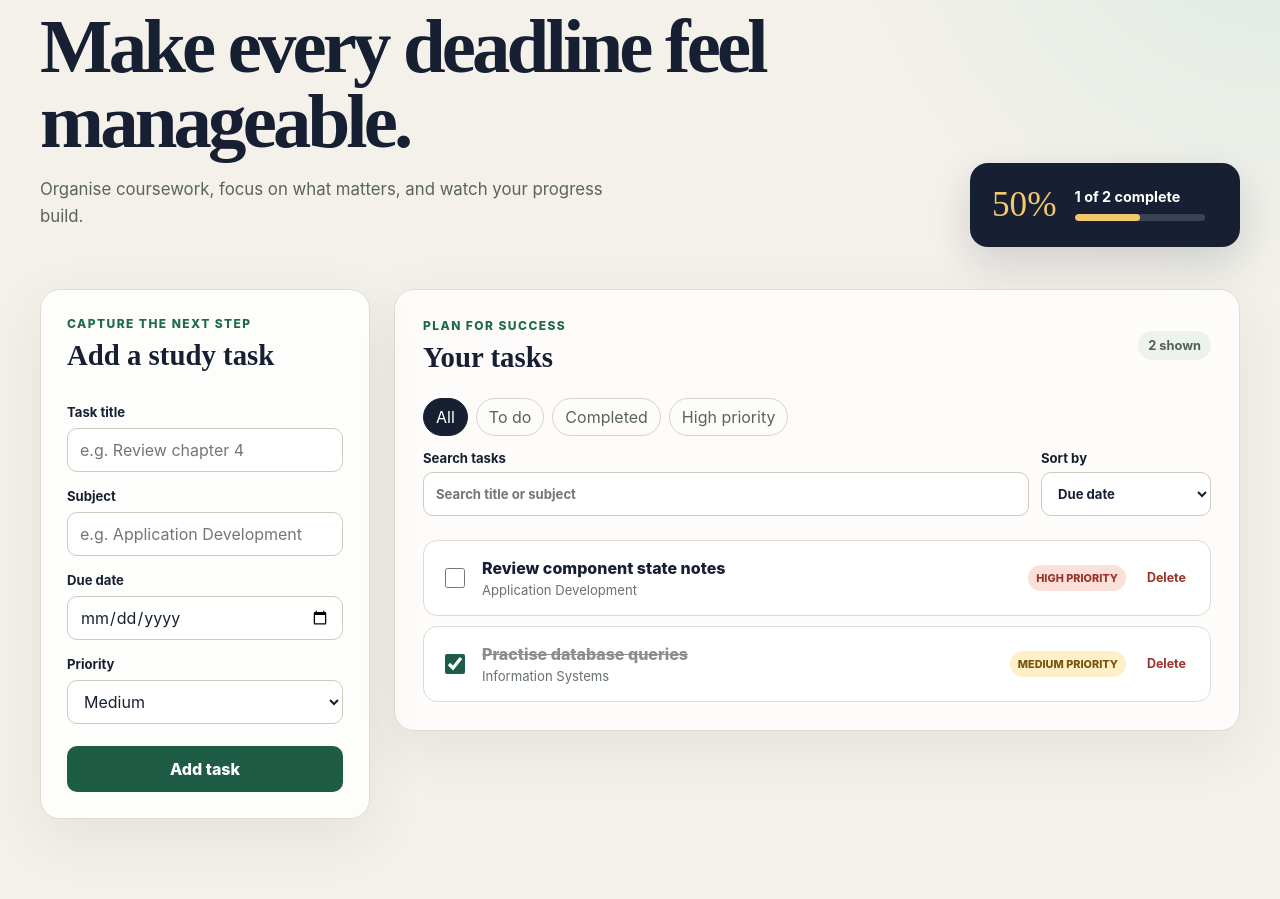
StudyFlow › shows an accessible validation message
(page scrolled)
Click the button "Add task" at (205, 769), box [67,746,343,792]
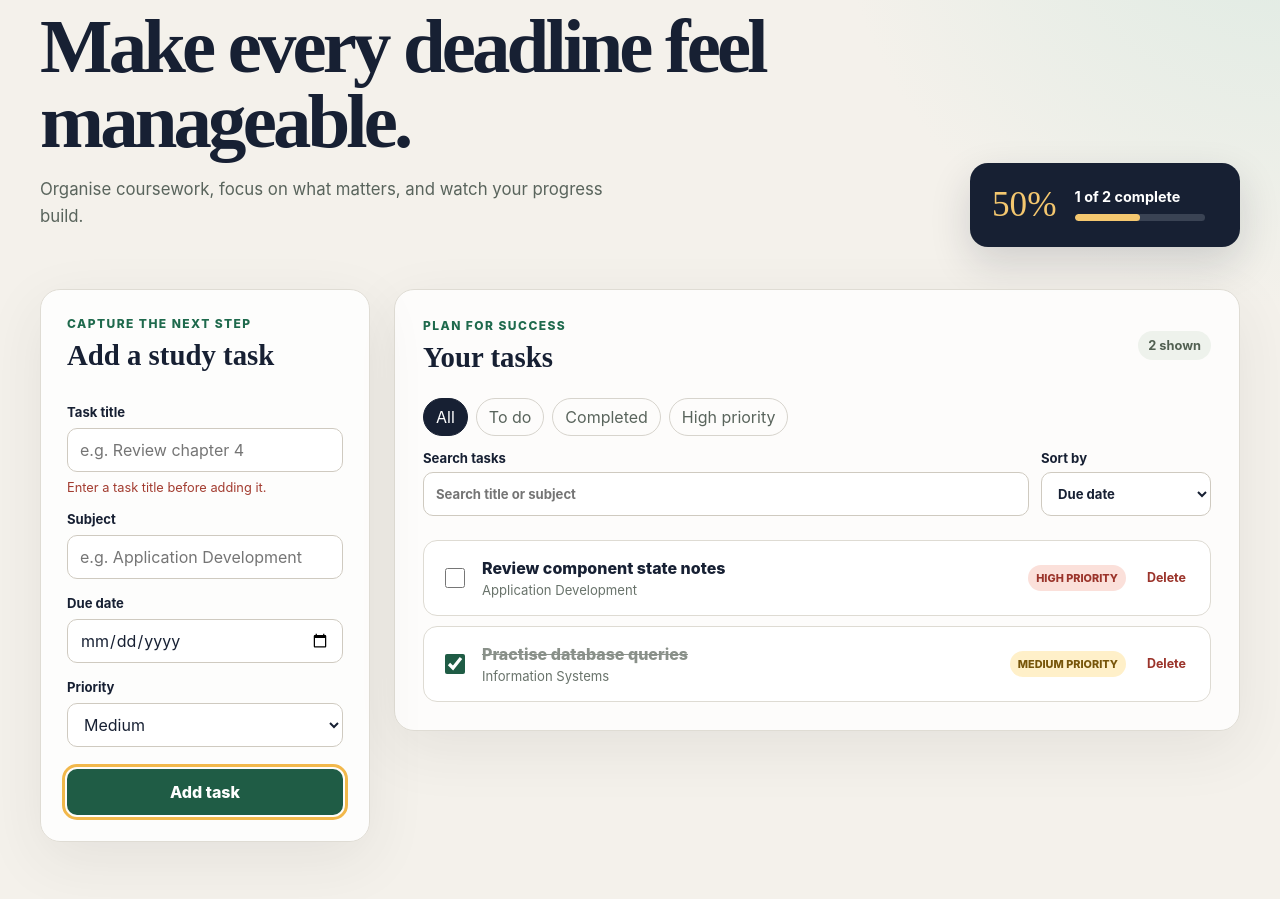
Check: the message shows "Enter a task title", box [67,480,266,495]
